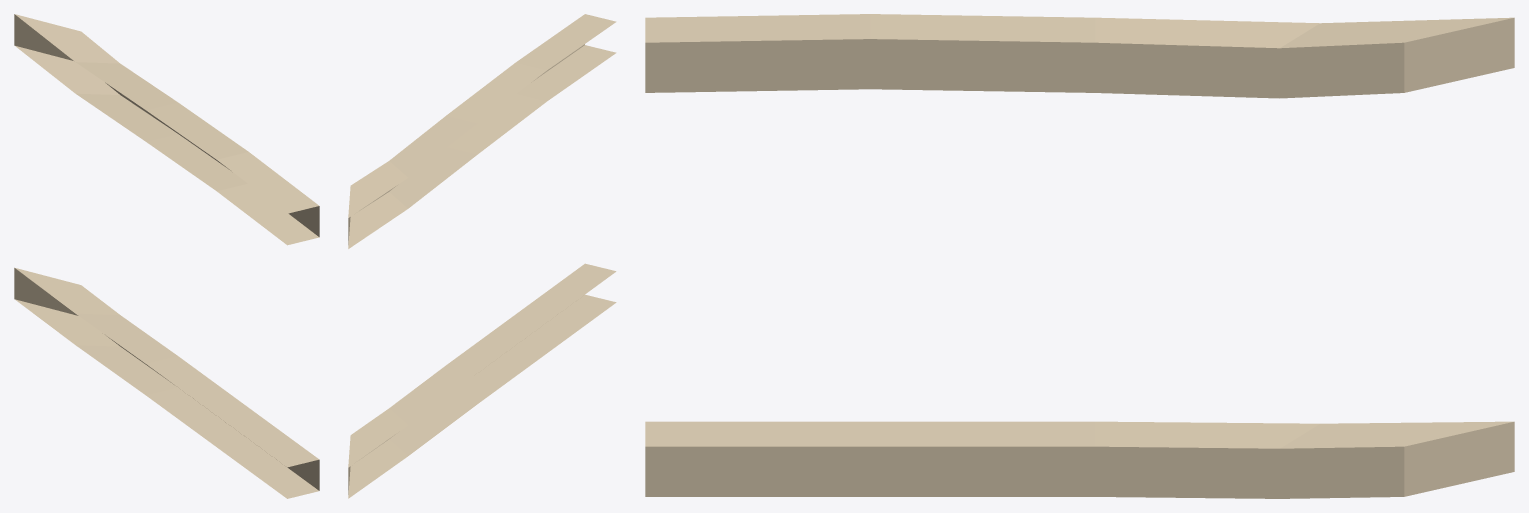
The model's file is Rail End Crossing.glb.
3 renders of one model, left to right at view 1: azimuth 30°, elevation 25°; view 2: azimuth 150°, elevation 25°; view 3: azimuth 270°, elevation 25°, orthographic. The views are drawn at different scales.
Parts seen in each view (by area): view 1: Rail_end_crossing; view 2: Rail_end_crossing; view 3: Rail_end_crossing.
Boxes of the visible parts, left/top/right/bottom form: Rail_end_crossing: left=14, top=14, right=319, bottom=498; Rail_end_crossing: left=348, top=14, right=616, bottom=498; Rail_end_crossing: left=645, top=14, right=1514, bottom=498.
Bounding box in the file's own units: 0.0465 × 0.3981 × 0.682.
